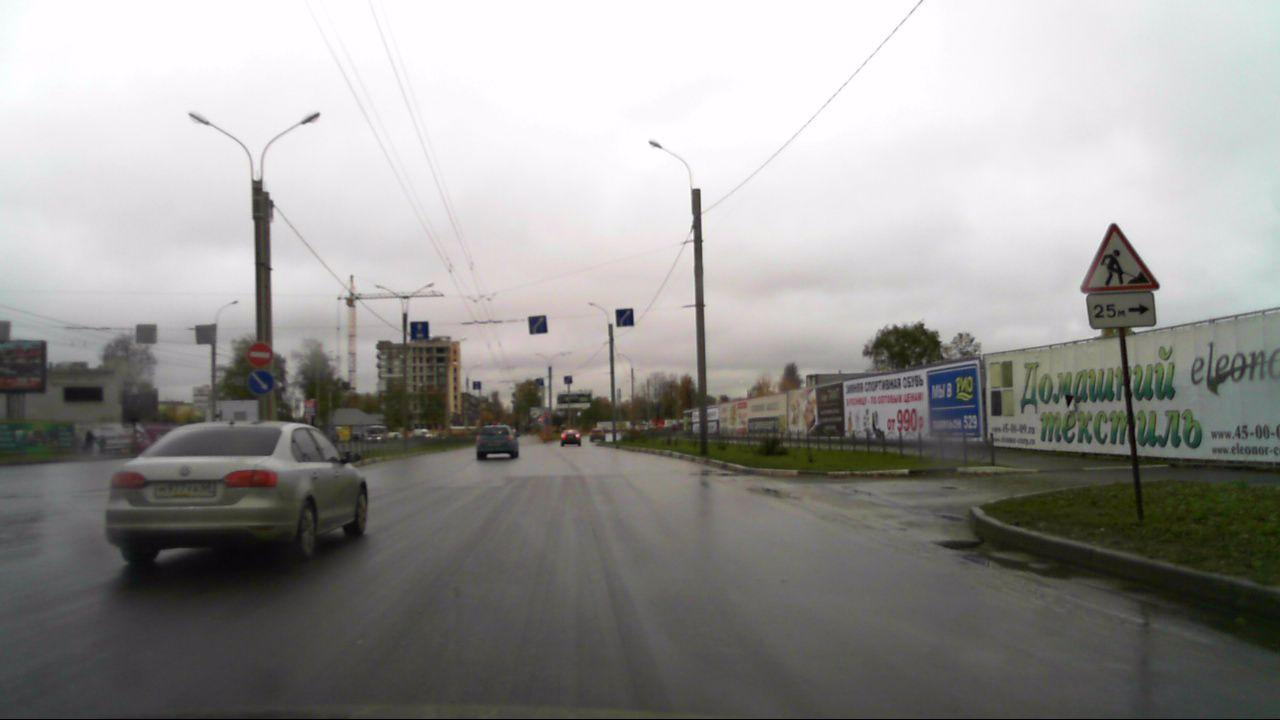1_25: (1077, 217, 1157, 290)
3_1: (247, 342, 274, 365)
4_2_1: (244, 367, 276, 393)
5_14_1: (407, 320, 430, 340)
5_15_2: (613, 308, 636, 329), (527, 315, 547, 335)
8_1_3: (1087, 292, 1156, 329)
